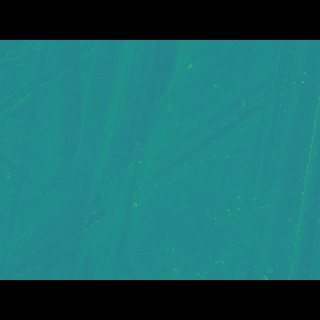Loch: (3, 161, 269, 250)
